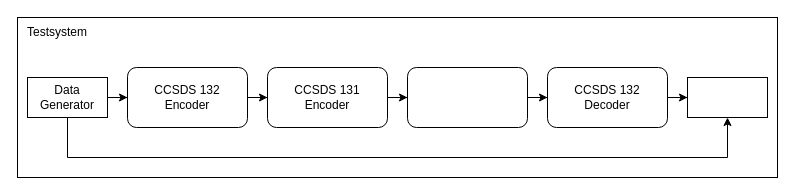
Image size: 795x195. Some labels were removed from this diagram. Each missing label, with the box of its shape:
CCSDS 131 Decoder: (406, 66, 528, 128)
Data Comparator: (686, 76, 768, 118)
